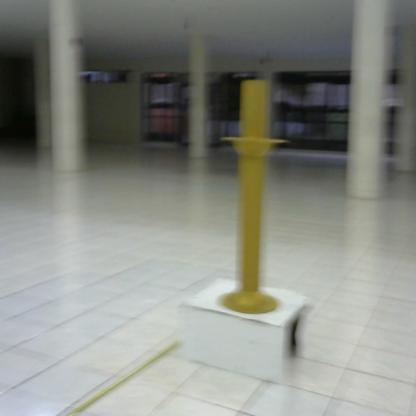pole: (215, 76, 291, 322)
